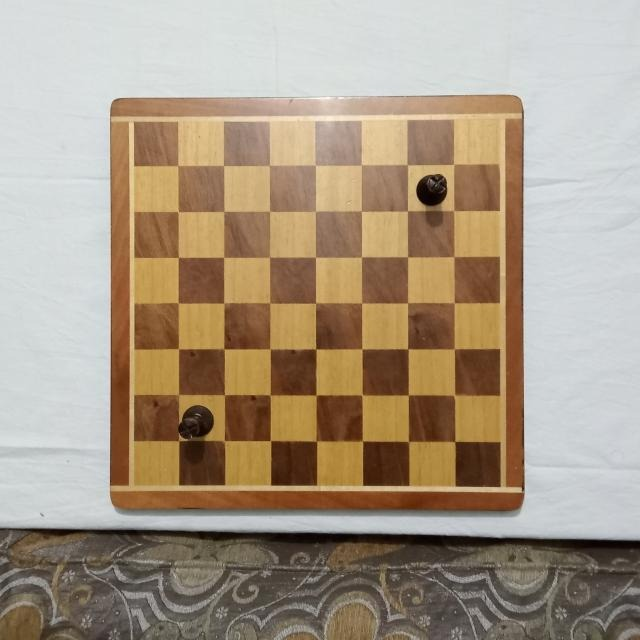black-rook: (178, 404, 214, 440), (415, 172, 447, 207)
